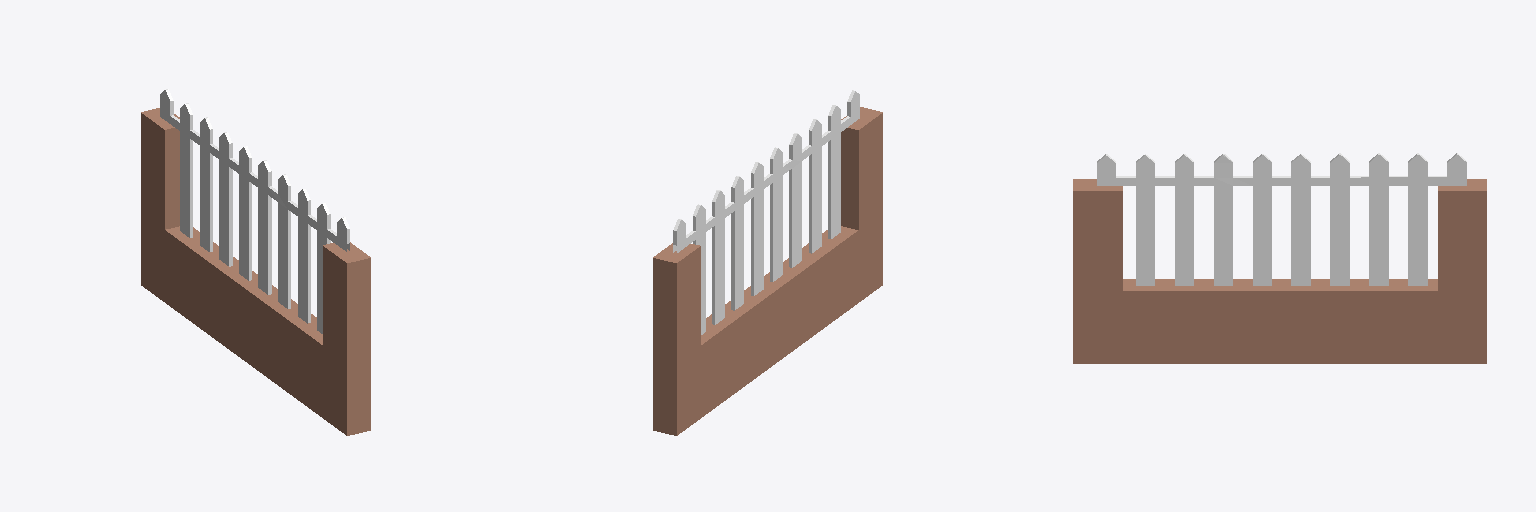
The picture shows the model from 3 angles: view 1: azimuth 30°, elevation 25°; view 2: azimuth 150°, elevation 25°; view 3: azimuth 270°, elevation 25°; orthographic projection.
Visible parts, largest first — view 1: Cube_Cube.001, Fence_Cube.008; view 2: Cube_Cube.001, Fence_Cube.008; view 3: Cube_Cube.001, Fence_Cube.008.
Boxes of the visible parts, x1=… form: Cube_Cube.001: x1=141, y1=108, x2=370, y2=435; Fence_Cube.008: x1=160, y1=89, x2=349, y2=333; Cube_Cube.001: x1=653, y1=107, x2=882, y2=435; Fence_Cube.008: x1=673, y1=90, x2=859, y2=334; Cube_Cube.001: x1=1073, y1=179, x2=1486, y2=363; Fence_Cube.008: x1=1097, y1=153, x2=1466, y2=285.
Bounding box in the file's own units: 0.6538 × 5.3 × 9.75.
Materials: 2 (2 with a texture image).